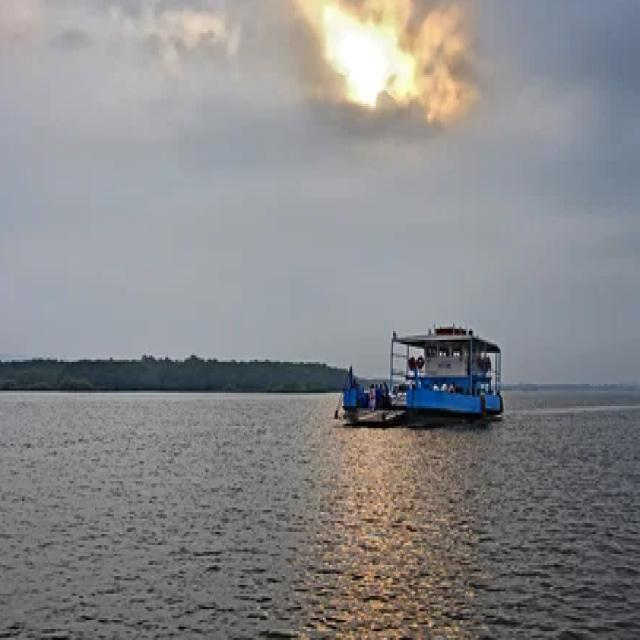fishing boat: (336, 302, 518, 430)
